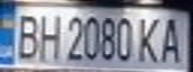0: (115, 14, 136, 63), (81, 12, 100, 62)
2: (63, 11, 84, 62)
8: (100, 14, 118, 62)
A: (157, 13, 187, 64)
B: (9, 10, 42, 62)
H: (36, 9, 63, 62)
K: (136, 12, 163, 64)
